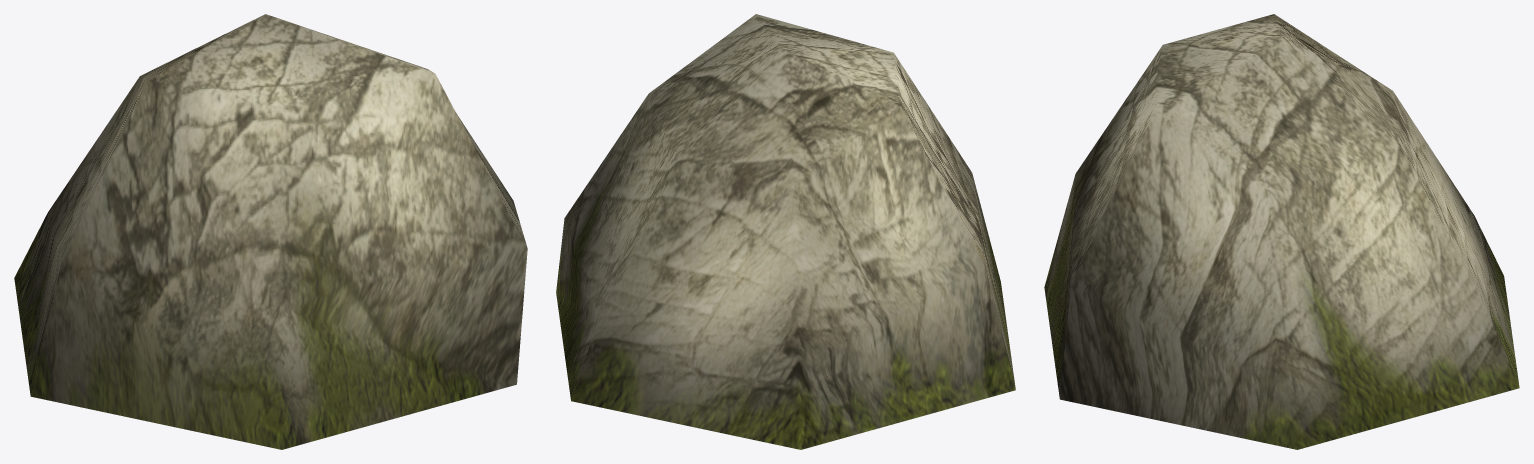
Rendered from rock1.fbx.
3 renders of one model, left to right at view 1: azimuth 30°, elevation 25°; view 2: azimuth 150°, elevation 25°; view 3: azimuth 270°, elevation 25°, orthographic. The views are drawn at different scales.
Visible parts, largest first — view 1: rock1; view 2: rock1; view 3: rock1.
Part boxes in pixels (box(x1,y1,x2,y2)): rock1: box(14, 14, 527, 449); rock1: box(556, 14, 1015, 449); rock1: box(1044, 14, 1519, 449).
Size of the model in its own units: 8.41 by 5.23 by 7.5.
1 material, 1 textured.
